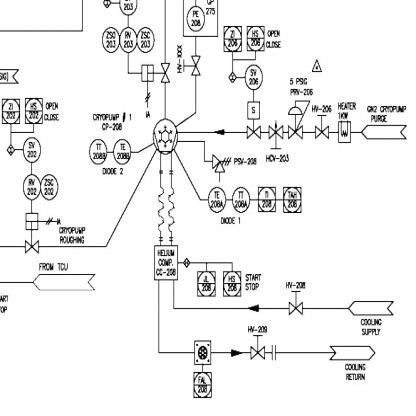LMI: (23, 134, 43, 164), (232, 182, 250, 214), (208, 183, 226, 215), (113, 136, 132, 166), (101, 26, 120, 56), (186, 6, 206, 34), (137, 26, 157, 54), (245, 62, 263, 92), (88, 138, 107, 166), (40, 174, 59, 202), (22, 174, 41, 200), (120, 27, 136, 53)
TAG: (191, 371, 216, 402), (283, 185, 305, 217), (222, 270, 243, 300), (222, 23, 243, 53), (1, 96, 22, 125), (258, 184, 276, 216), (196, 270, 216, 298), (246, 23, 265, 52), (24, 97, 43, 124)
